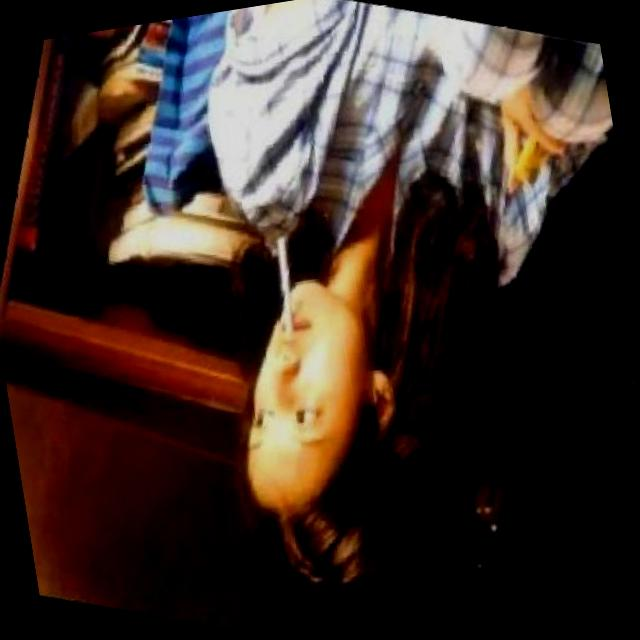cigarette: (244, 227, 328, 341)
